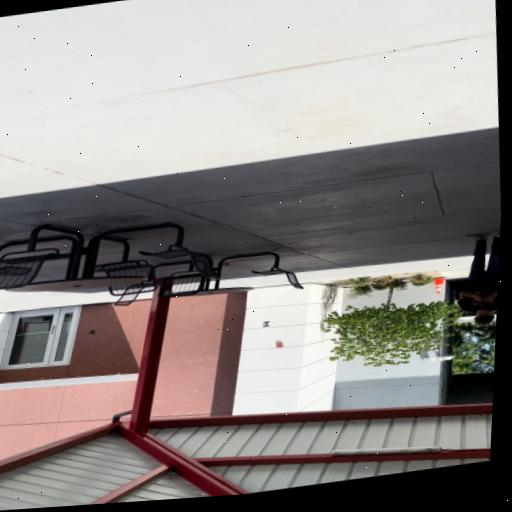target2: (262, 321, 271, 328)
